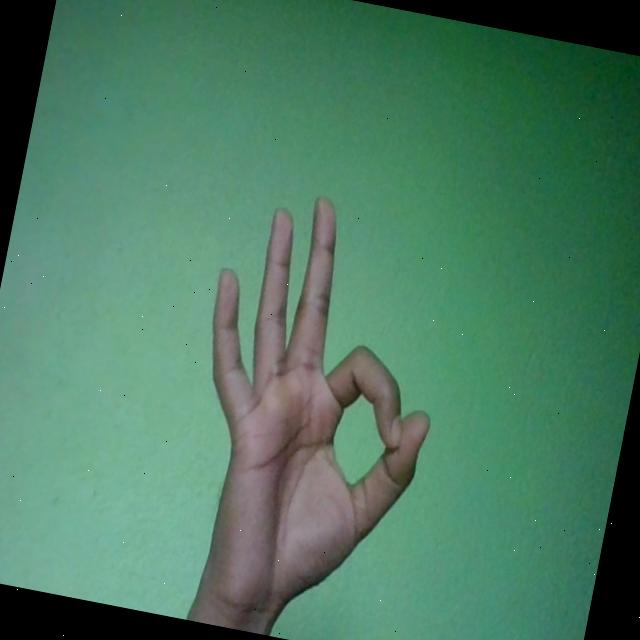Rock On: (153, 180, 469, 640)
